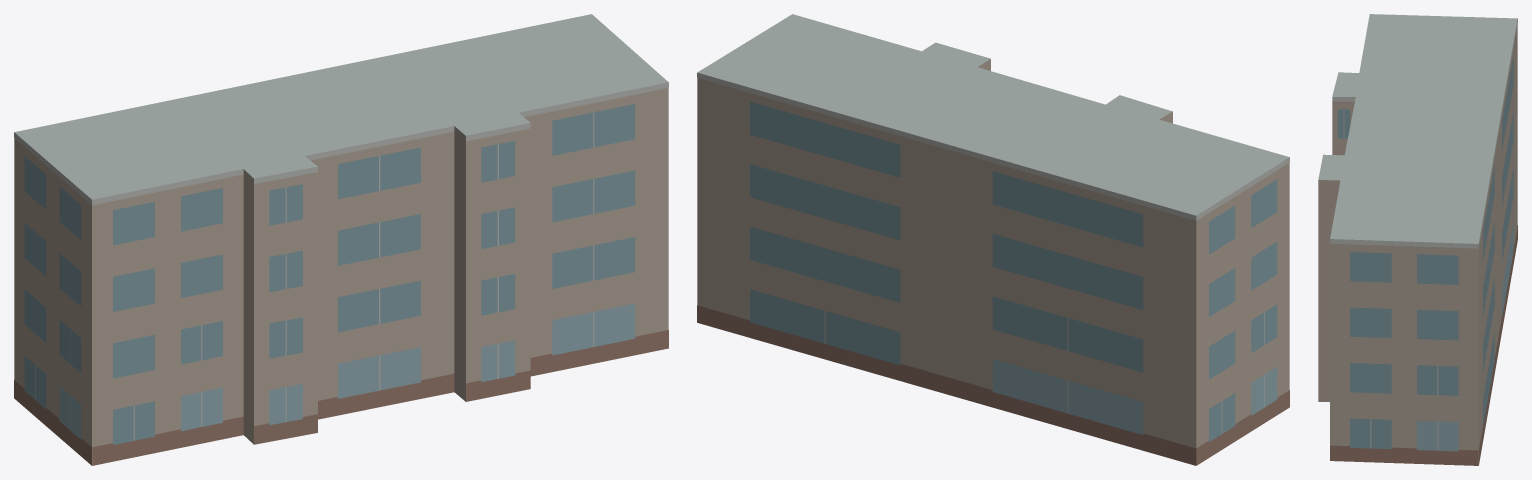
File: survey-upis-32594100.glb
The picture shows the model from 3 angles, left to right: view 1: azimuth 30°, elevation 25°; view 2: azimuth 150°, elevation 25°; view 3: azimuth 270°, elevation 25°; orthographic projection. The views are drawn at different scales.
Visible parts, largest first — view 1: survey-upis-32594100.tmp; view 2: survey-upis-32594100.tmp; view 3: survey-upis-32594100.tmp.
Part boxes in pixels (x1,y1,x2,y2): survey-upis-32594100.tmp: (14,14,668,465); survey-upis-32594100.tmp: (697,14,1289,465); survey-upis-32594100.tmp: (1318,14,1517,465).
Size of the model in its own units: 26.01 by 11.7 by 9.54.
